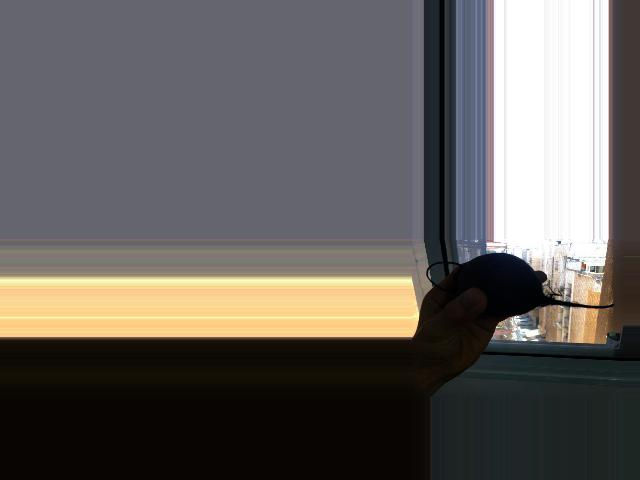beet: (427, 253, 615, 317)
